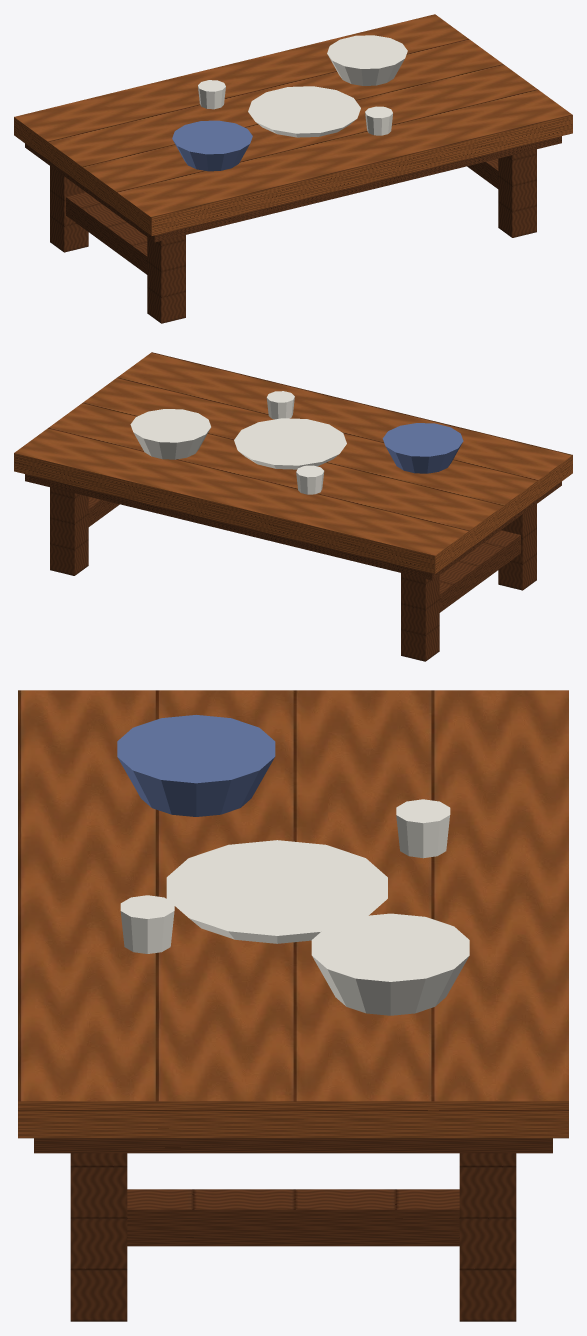
The model's file is low_table.glb.
The picture shows the model from 3 angles, top to bottom: view 1: azimuth 30°, elevation 25°; view 2: azimuth 150°, elevation 25°; view 3: azimuth 270°, elevation 25°; orthographic projection. The views are drawn at different scales.
Visible parts, largest first — view 1: low-table-zataku-timber, low-table-zataku-darkwood, low-table-zataku-cream, low-table-zataku-indigo; view 2: low-table-zataku-timber, low-table-zataku-darkwood, low-table-zataku-cream, low-table-zataku-indigo; view 3: low-table-zataku-timber, low-table-zataku-darkwood, low-table-zataku-cream, low-table-zataku-indigo.
Boxes of the visible parts, x1=… form: low-table-zataku-timber: x1=14, y1=14, x2=572, y2=235; low-table-zataku-darkwood: x1=25, y1=136, x2=561, y2=323; low-table-zataku-cream: x1=198, y1=35, x2=407, y2=137; low-table-zataku-indigo: x1=172, y1=120, x2=252, y2=171; low-table-zataku-timber: x1=14, y1=352, x2=572, y2=573; low-table-zataku-darkwood: x1=25, y1=474, x2=561, y2=661; low-table-zataku-cream: x1=130, y1=391, x2=346, y2=494; low-table-zataku-indigo: x1=382, y1=423, x2=463, y2=473; low-table-zataku-timber: x1=18, y1=690, x2=568, y2=1138; low-table-zataku-darkwood: x1=34, y1=1138, x2=552, y2=1321; low-table-zataku-cream: x1=120, y1=799, x2=469, y2=1015; low-table-zataku-indigo: x1=117, y1=715, x2=275, y2=816.
Size of the model in its own units: 1.2 by 0.39 by 0.6801.
Materials: 4 (2 with a texture image).
